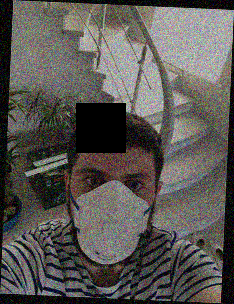with_mask: (71, 153, 155, 266)
